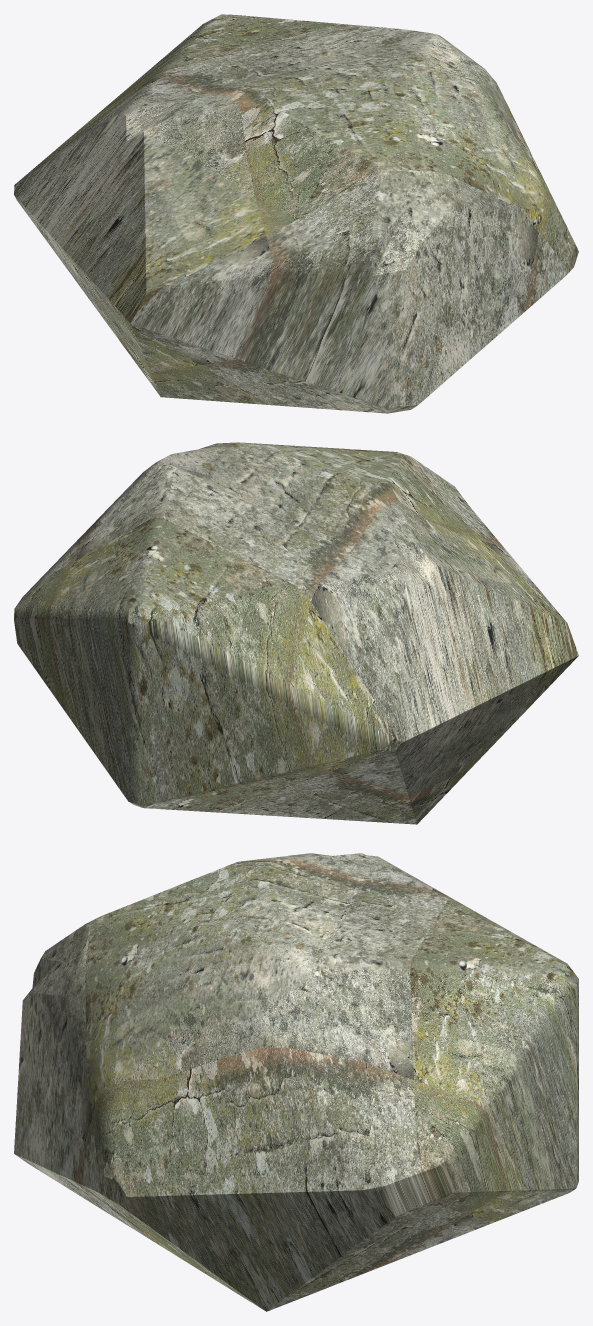
File: boulder.fbx
3 views of the same model, one above another, from view 1: azimuth 30°, elevation 25°; view 2: azimuth 150°, elevation 25°; view 3: azimuth 270°, elevation 25° (orthographic). The views are drawn at different scales.
Visible parts, largest first — view 1: pPlatonic1; view 2: pPlatonic1; view 3: pPlatonic1.
Part boxes in pixels (x1=…): pPlatonic1: x1=14, y1=14, x2=578, y2=413; pPlatonic1: x1=14, y1=442, x2=578, y2=824; pPlatonic1: x1=14, y1=853, x2=578, y2=1311.
Size of the model in its own units: 3.83 by 2.4 by 3.58.
Materials: 1 (1 with a texture image).
